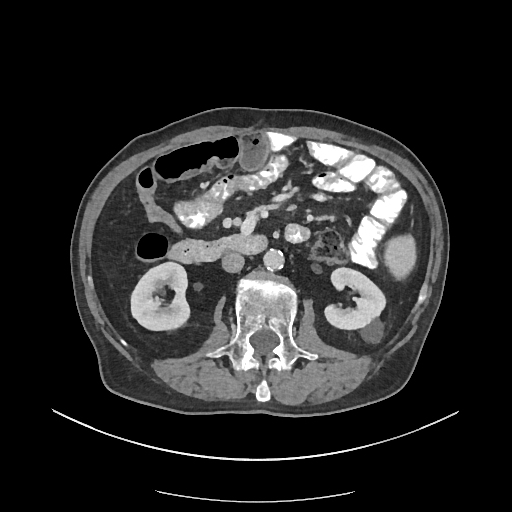Lesion: (356, 318, 387, 348)
